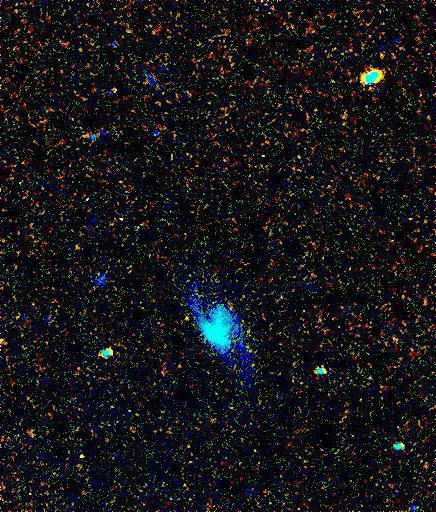star: (65, 441, 95, 471)
